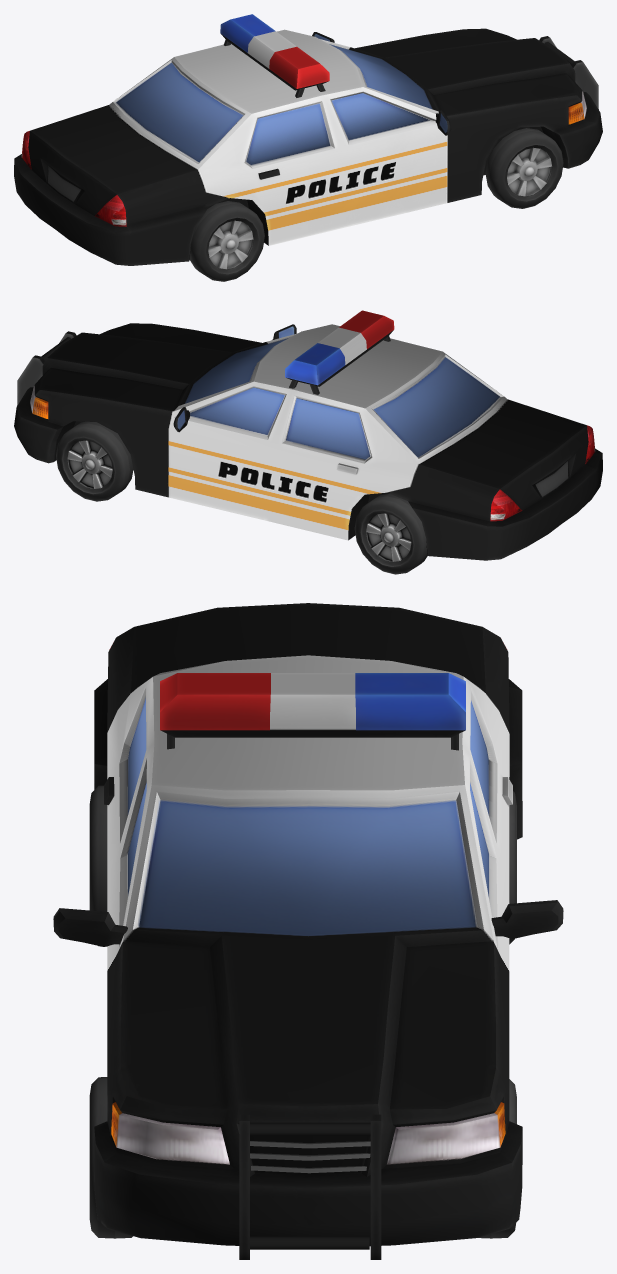
File: police.glb
The picture shows the model from 3 angles, top to bottom: view 1: azimuth 30°, elevation 25°; view 2: azimuth 150°, elevation 25°; view 3: azimuth 270°, elevation 25°; orthographic projection. The views are drawn at different scales.
Visible parts, largest first — view 1: Object_2; view 2: Object_2; view 3: Object_2.
Boxes of the visible parts, bbox=[...] form: Object_2: bbox=[14, 14, 602, 281]; Object_2: bbox=[14, 310, 602, 574]; Object_2: bbox=[53, 603, 563, 1259].
Bounding box in the file's own units: 5.69 × 1.8 × 2.36.
1 material, 1 textured.
